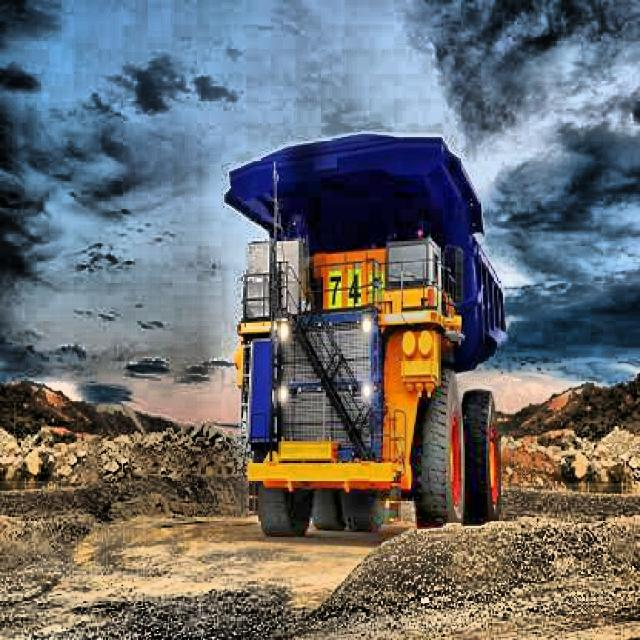dump_truck: (222, 114, 530, 558)
